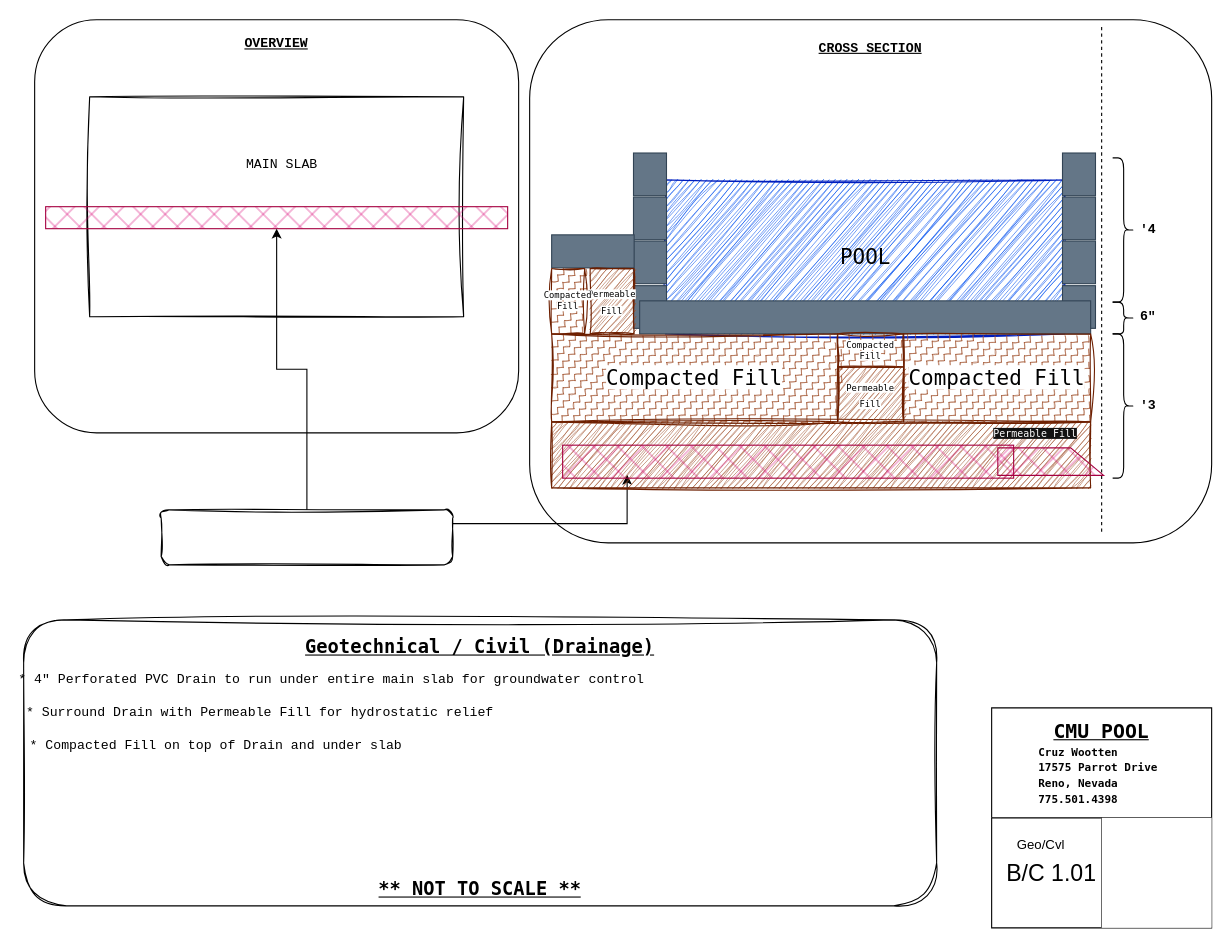
The diagram is 1231 pixels wide and 948 high, and some of its shapes have lost their labels. The centre of each missing label's shape, as x and y in pixels:
Drawing Page 4 / X: (x=1156, y=872)
Perforated 4" PVC Drain * "FRENCH DRAIN": (x=306, y=537)
